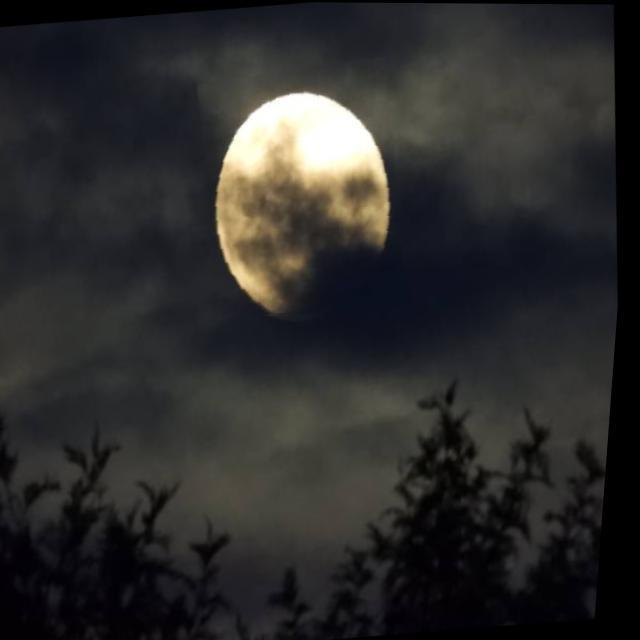moon: (188, 56, 420, 320)
